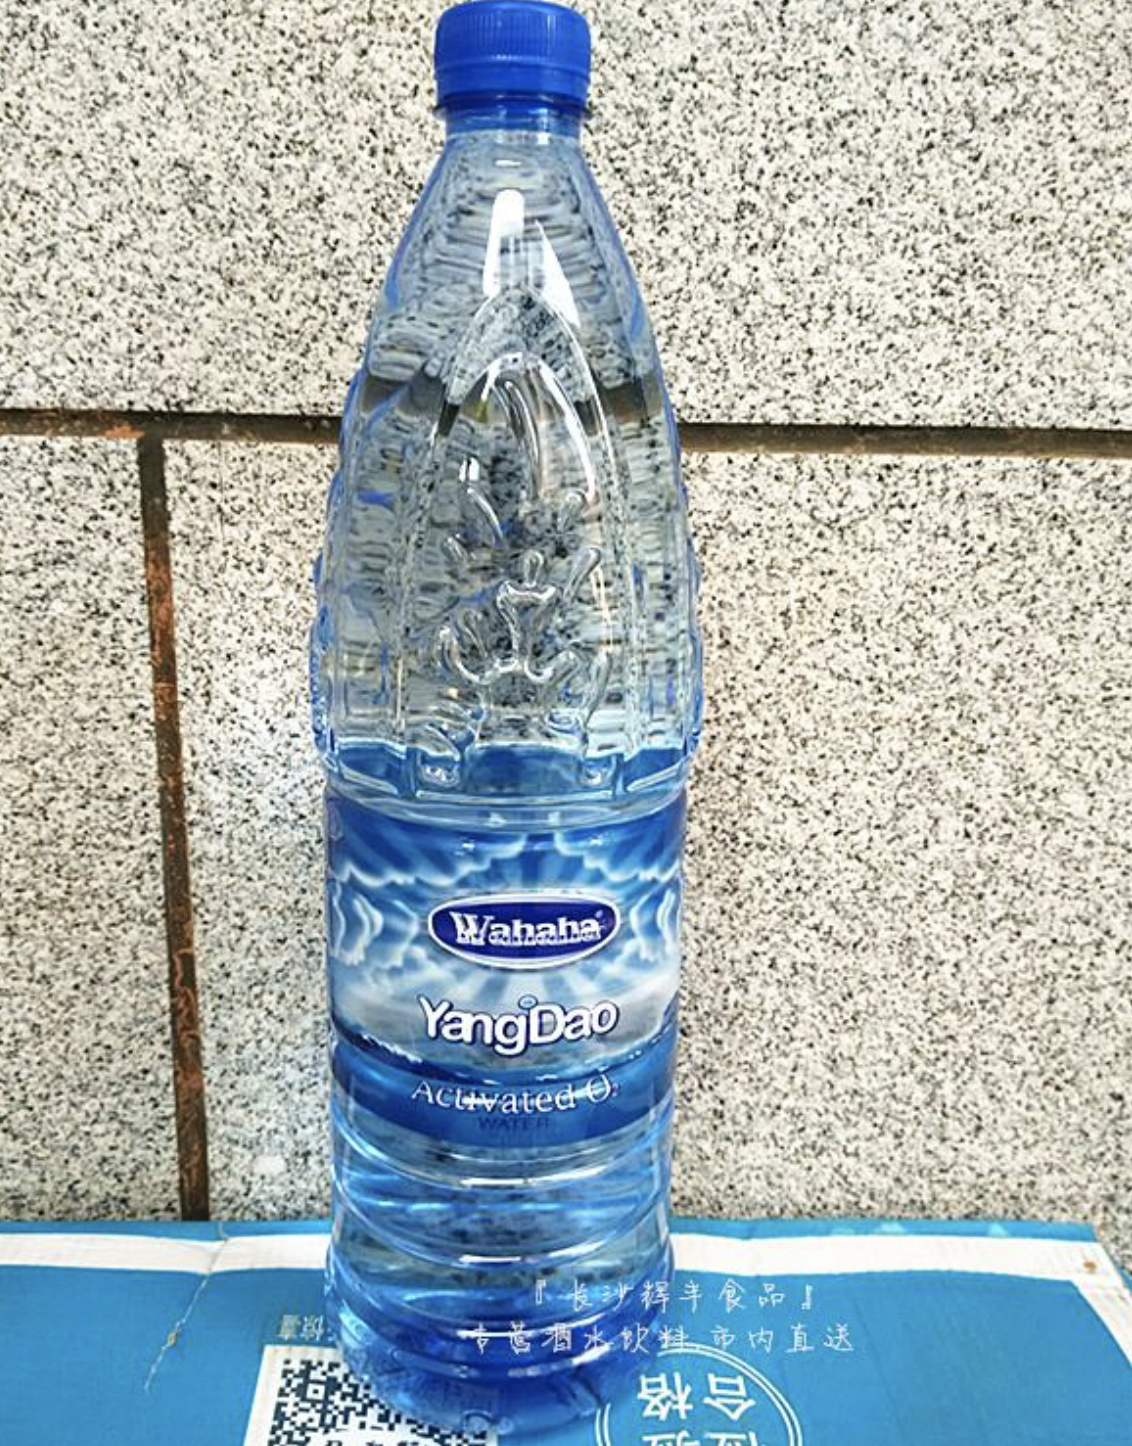哇哈哈: (299, 18, 708, 1411)
